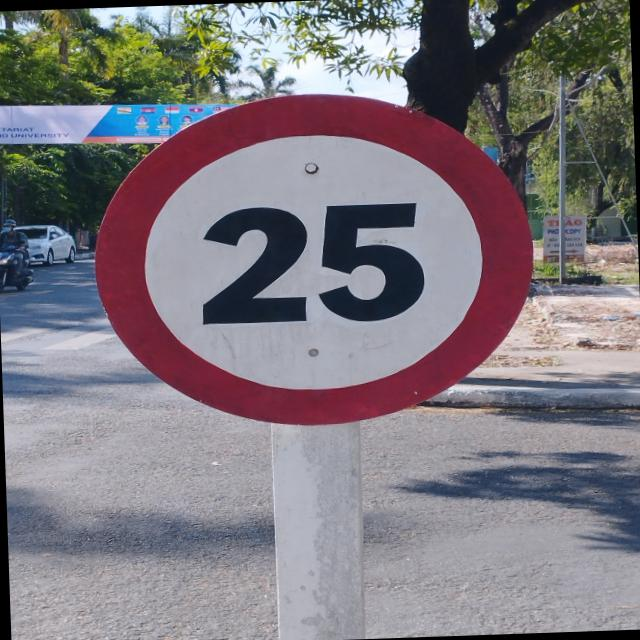Tre_Em: (88, 83, 540, 430)
